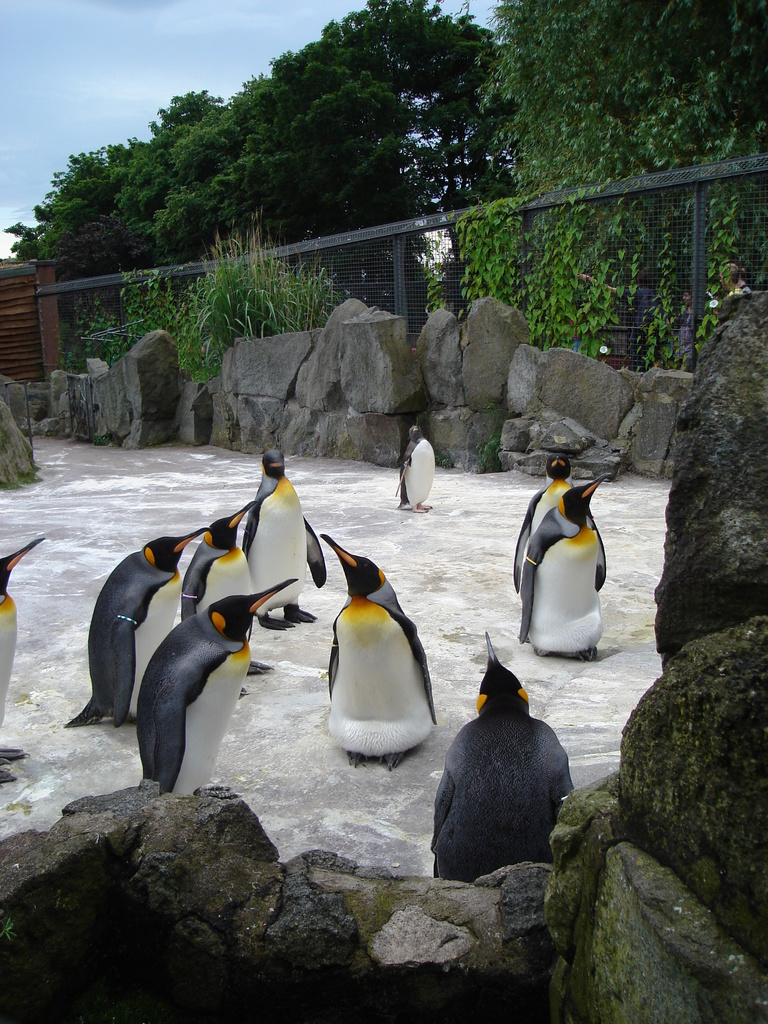person: (429, 656, 574, 883)
